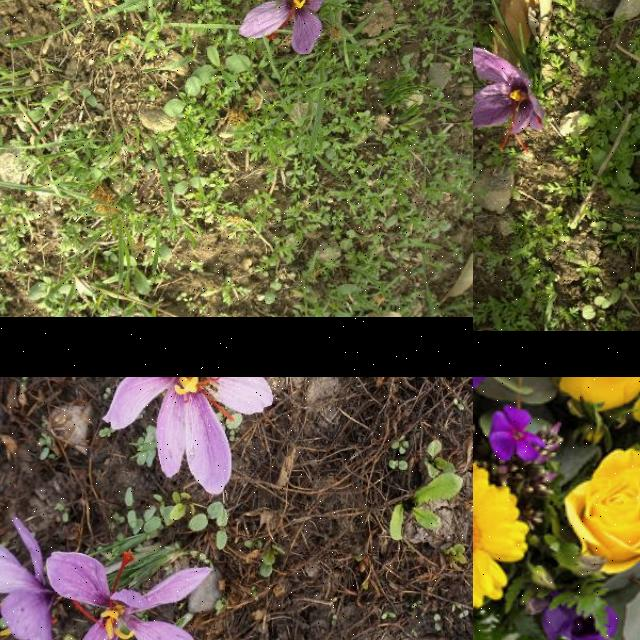flower: (103, 377, 271, 495), (473, 48, 545, 152), (238, 0, 325, 55)
overlap: (0, 515, 213, 640)
